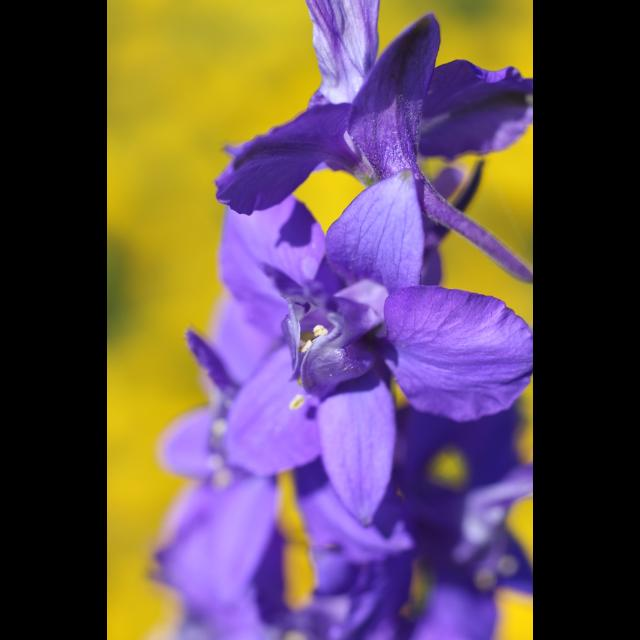Flower: (220, 176, 532, 514), (153, 384, 533, 640), (213, 0, 532, 284), (152, 329, 408, 609)
